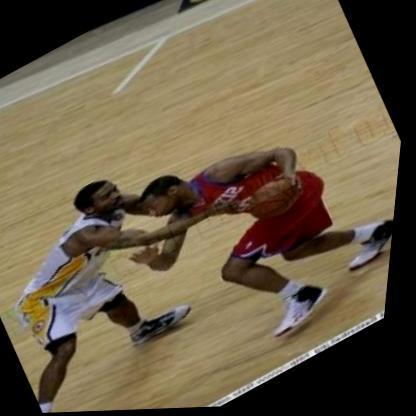basketball: (236, 166, 319, 238)
